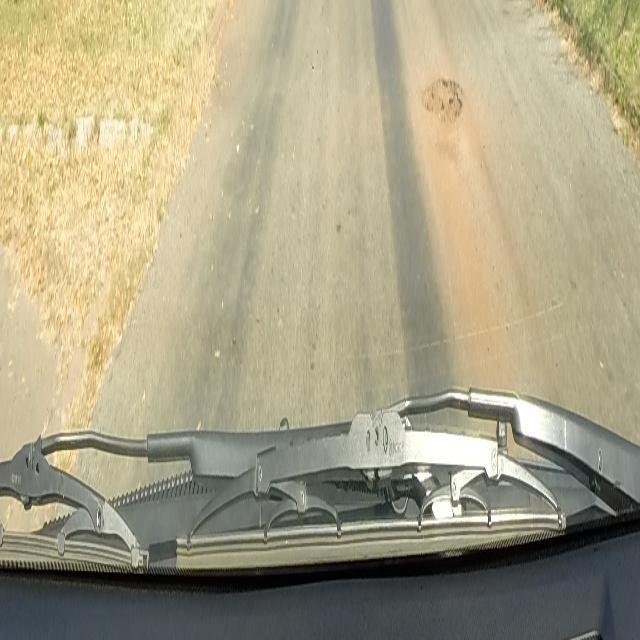pothole: (419, 66, 463, 125)
